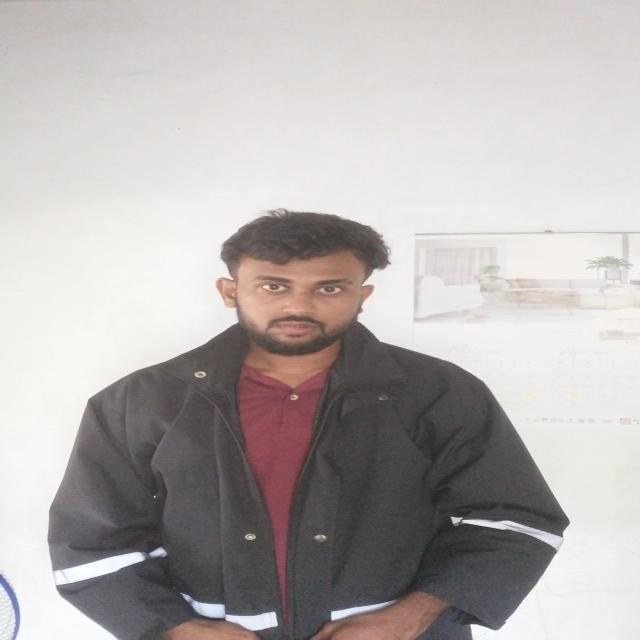Jacket_Wearer: (42, 291, 570, 640)
